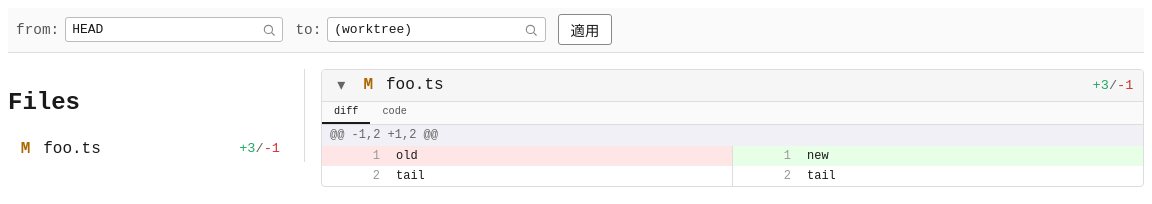
Test: DiffView › ファイルヘッダークリックで折りたたまれ、再度クリックで展開する
The width and height of the screenshot is (1152, 204).
Expected: the button with class "toggle" reads "▾", x1=332 y1=77 x2=351 y2=93
クリックで折りたたむ (display:none になる)
Click the header with class "file-header": (732, 86) x1=322 y1=70 x2=1143 y2=102
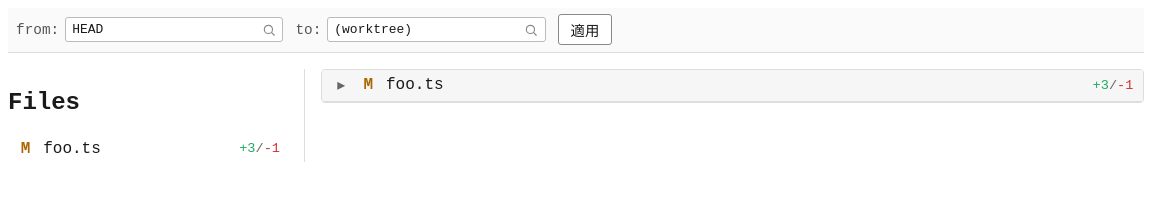
Now the button with class "toggle" reads "▸", box x1=332 y1=77 x2=351 y2=93
もう一度クリックで展開
Click the header with class "file-header": (732, 86) x1=322 y1=70 x2=1143 y2=102
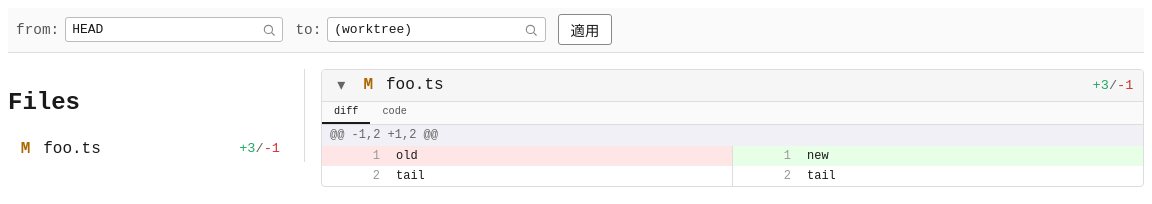
Now the button with class "toggle" reads "▾", box x1=332 y1=77 x2=351 y2=93
